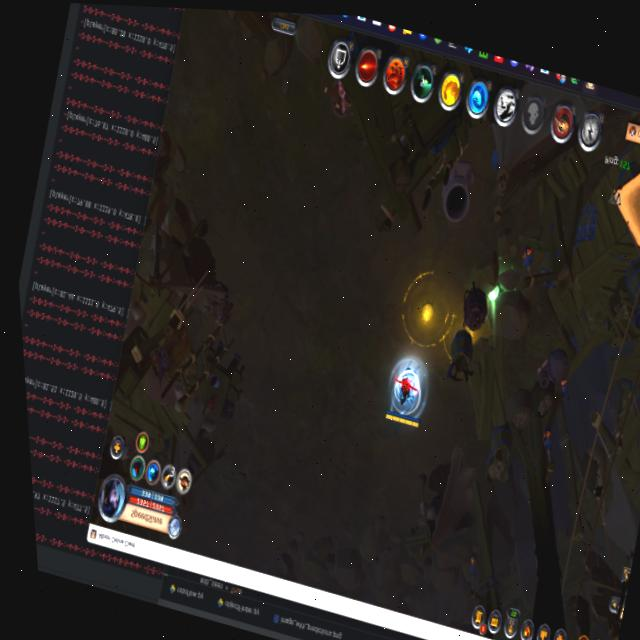red: (374, 344, 444, 435)
